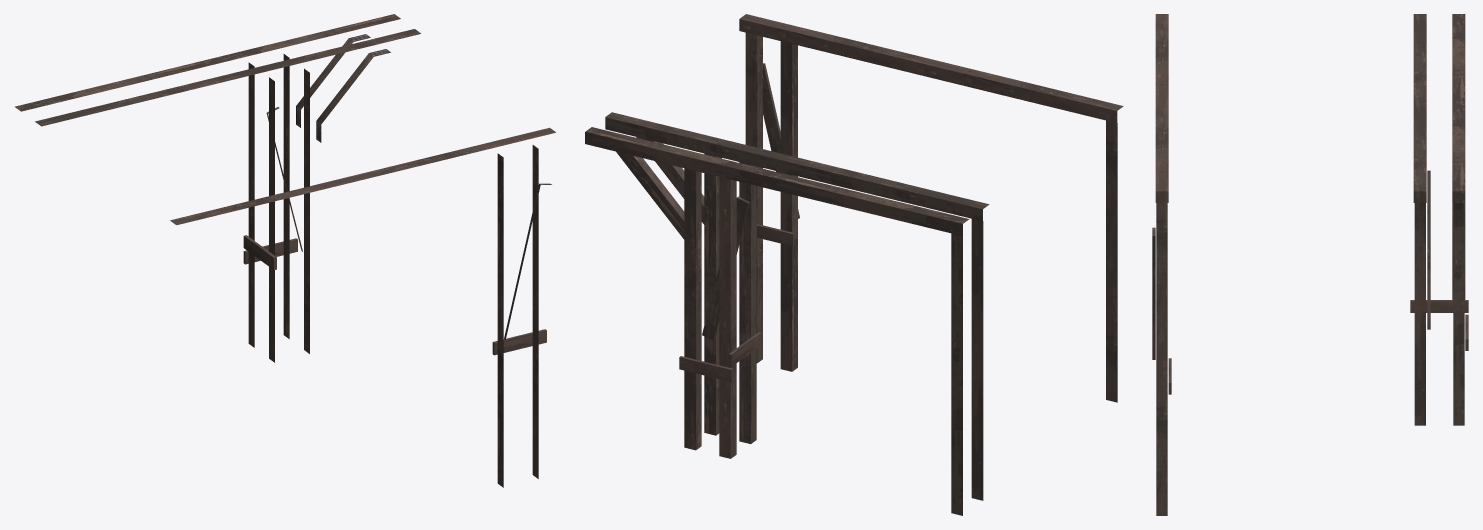
3 renders of one model, left to right at view 1: azimuth 30°, elevation 25°; view 2: azimuth 150°, elevation 25°; view 3: azimuth 270°, elevation 25°, orthographic. The views are drawn at different scales.
Visible parts, largest first — view 1: body0_model0_lod0_mesh0; view 2: body0_model0_lod0_mesh0; view 3: body0_model0_lod0_mesh0.
Part boxes in pixels (x1,y1,x2,y2): body0_model0_lod0_mesh0: [15, 14, 555, 487]; body0_model0_lod0_mesh0: [585, 14, 1123, 515]; body0_model0_lod0_mesh0: [1152, 14, 1468, 515].
Bounding box in the file's own units: 520 × 448 × 392.
Materials: 2 (2 with a texture image).
